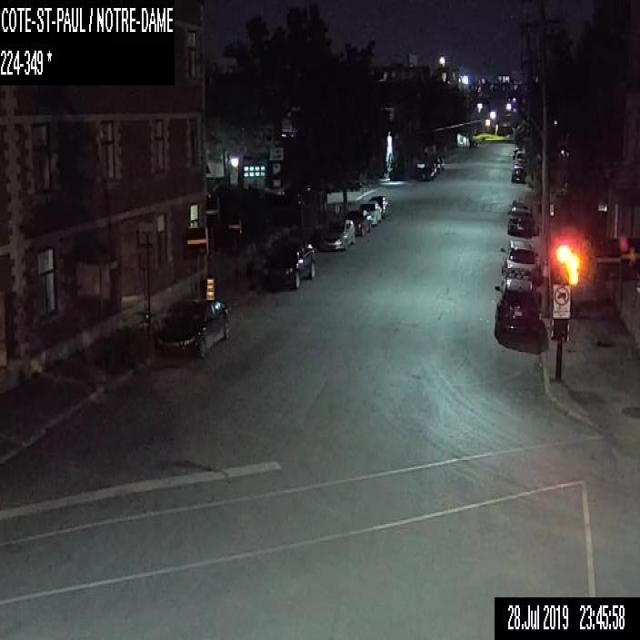construction: (203, 274, 214, 298)
vehicle: (155, 295, 228, 360), (260, 239, 314, 292), (492, 277, 536, 339), (499, 238, 538, 279), (506, 198, 532, 235), (324, 219, 355, 249), (348, 209, 371, 235), (412, 157, 433, 181), (360, 201, 381, 224), (369, 194, 389, 216), (510, 164, 526, 182), (514, 149, 526, 164)
